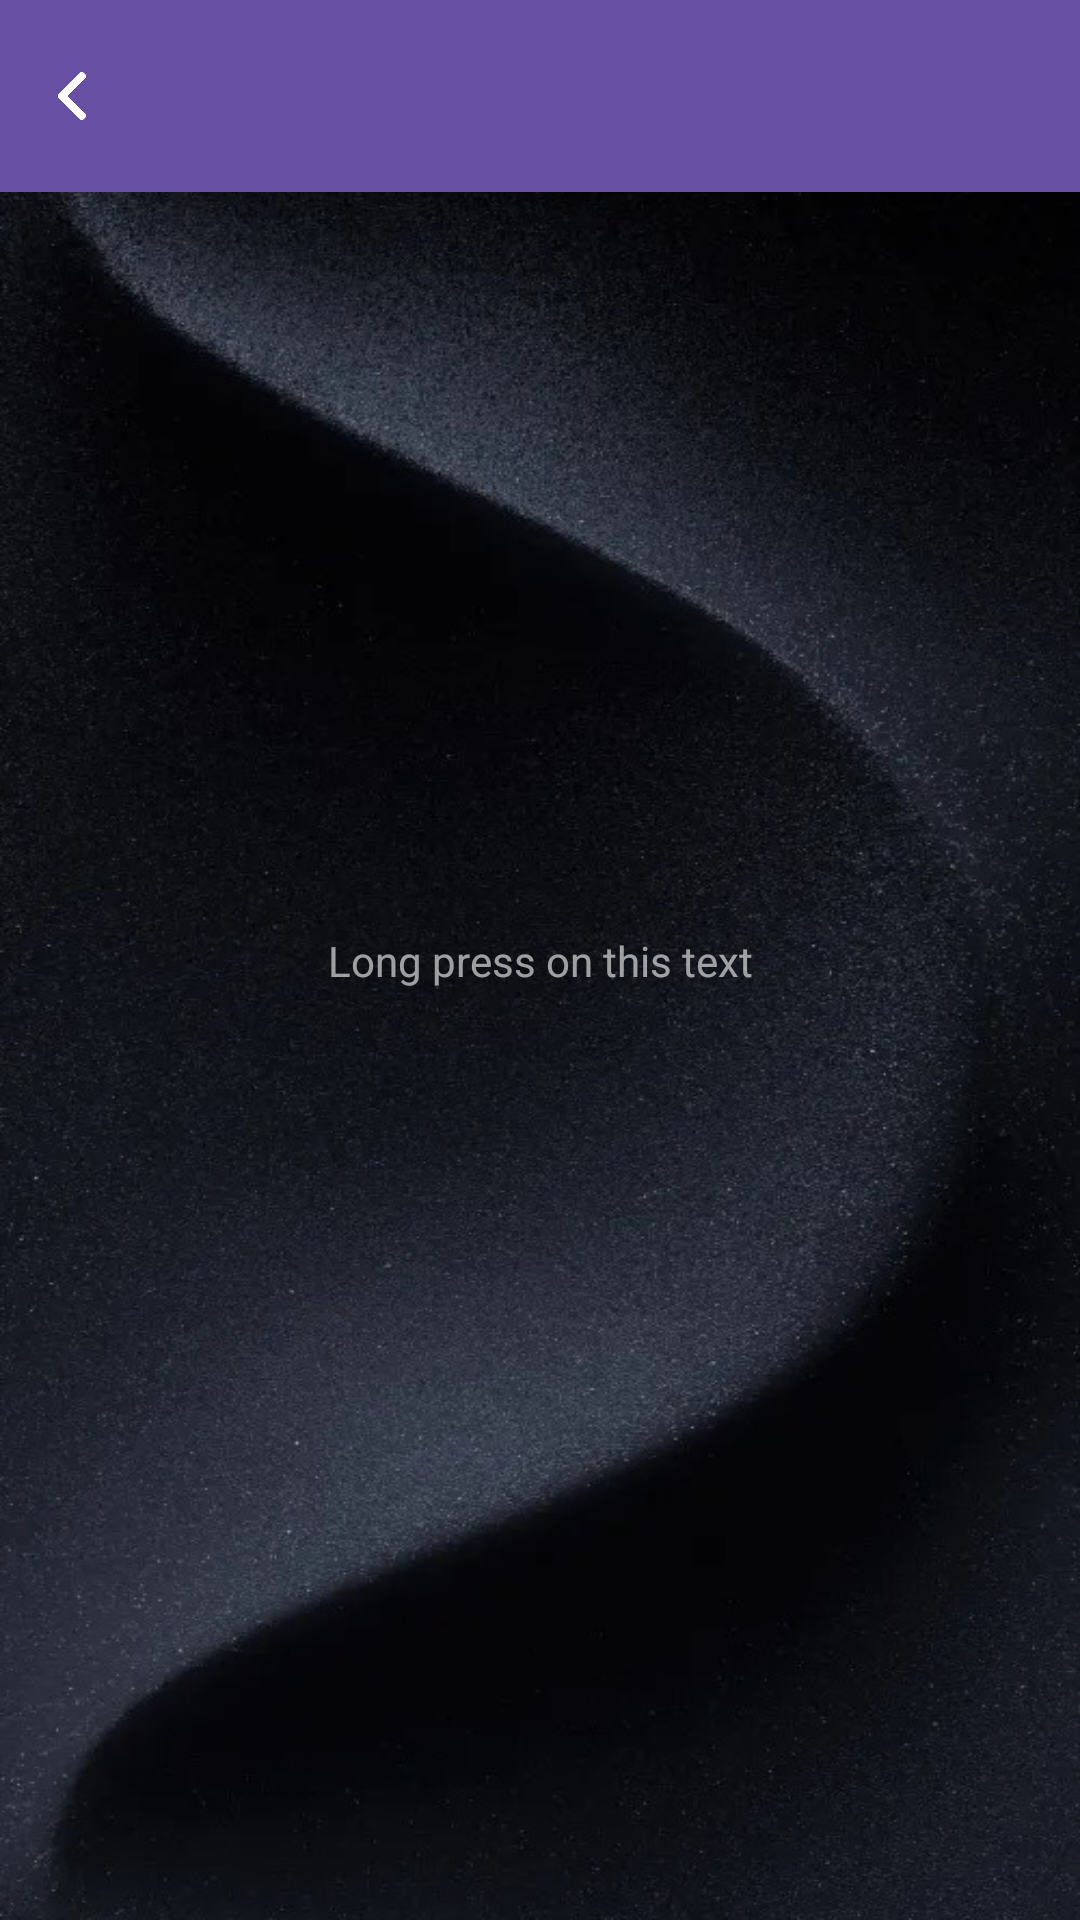

Icons on this 1080 x 1920 Android screen, each with the point to tap as (x,y):
arrow back: (72,96)
